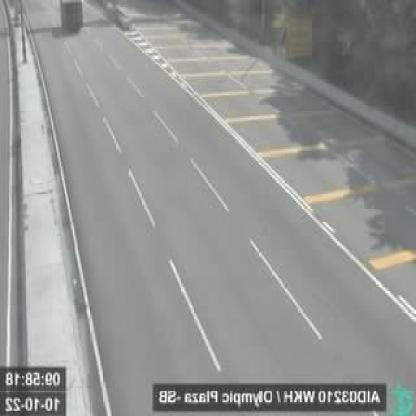Truck: (59, 0, 83, 31)
